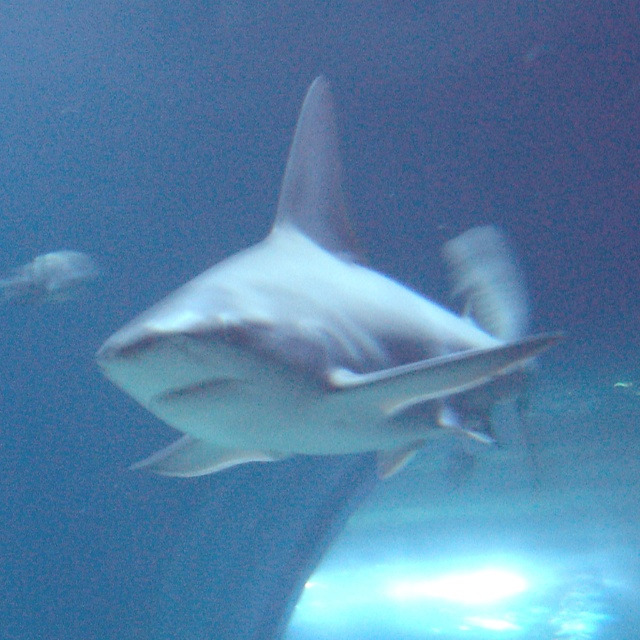Shark: (92, 74, 575, 483)
